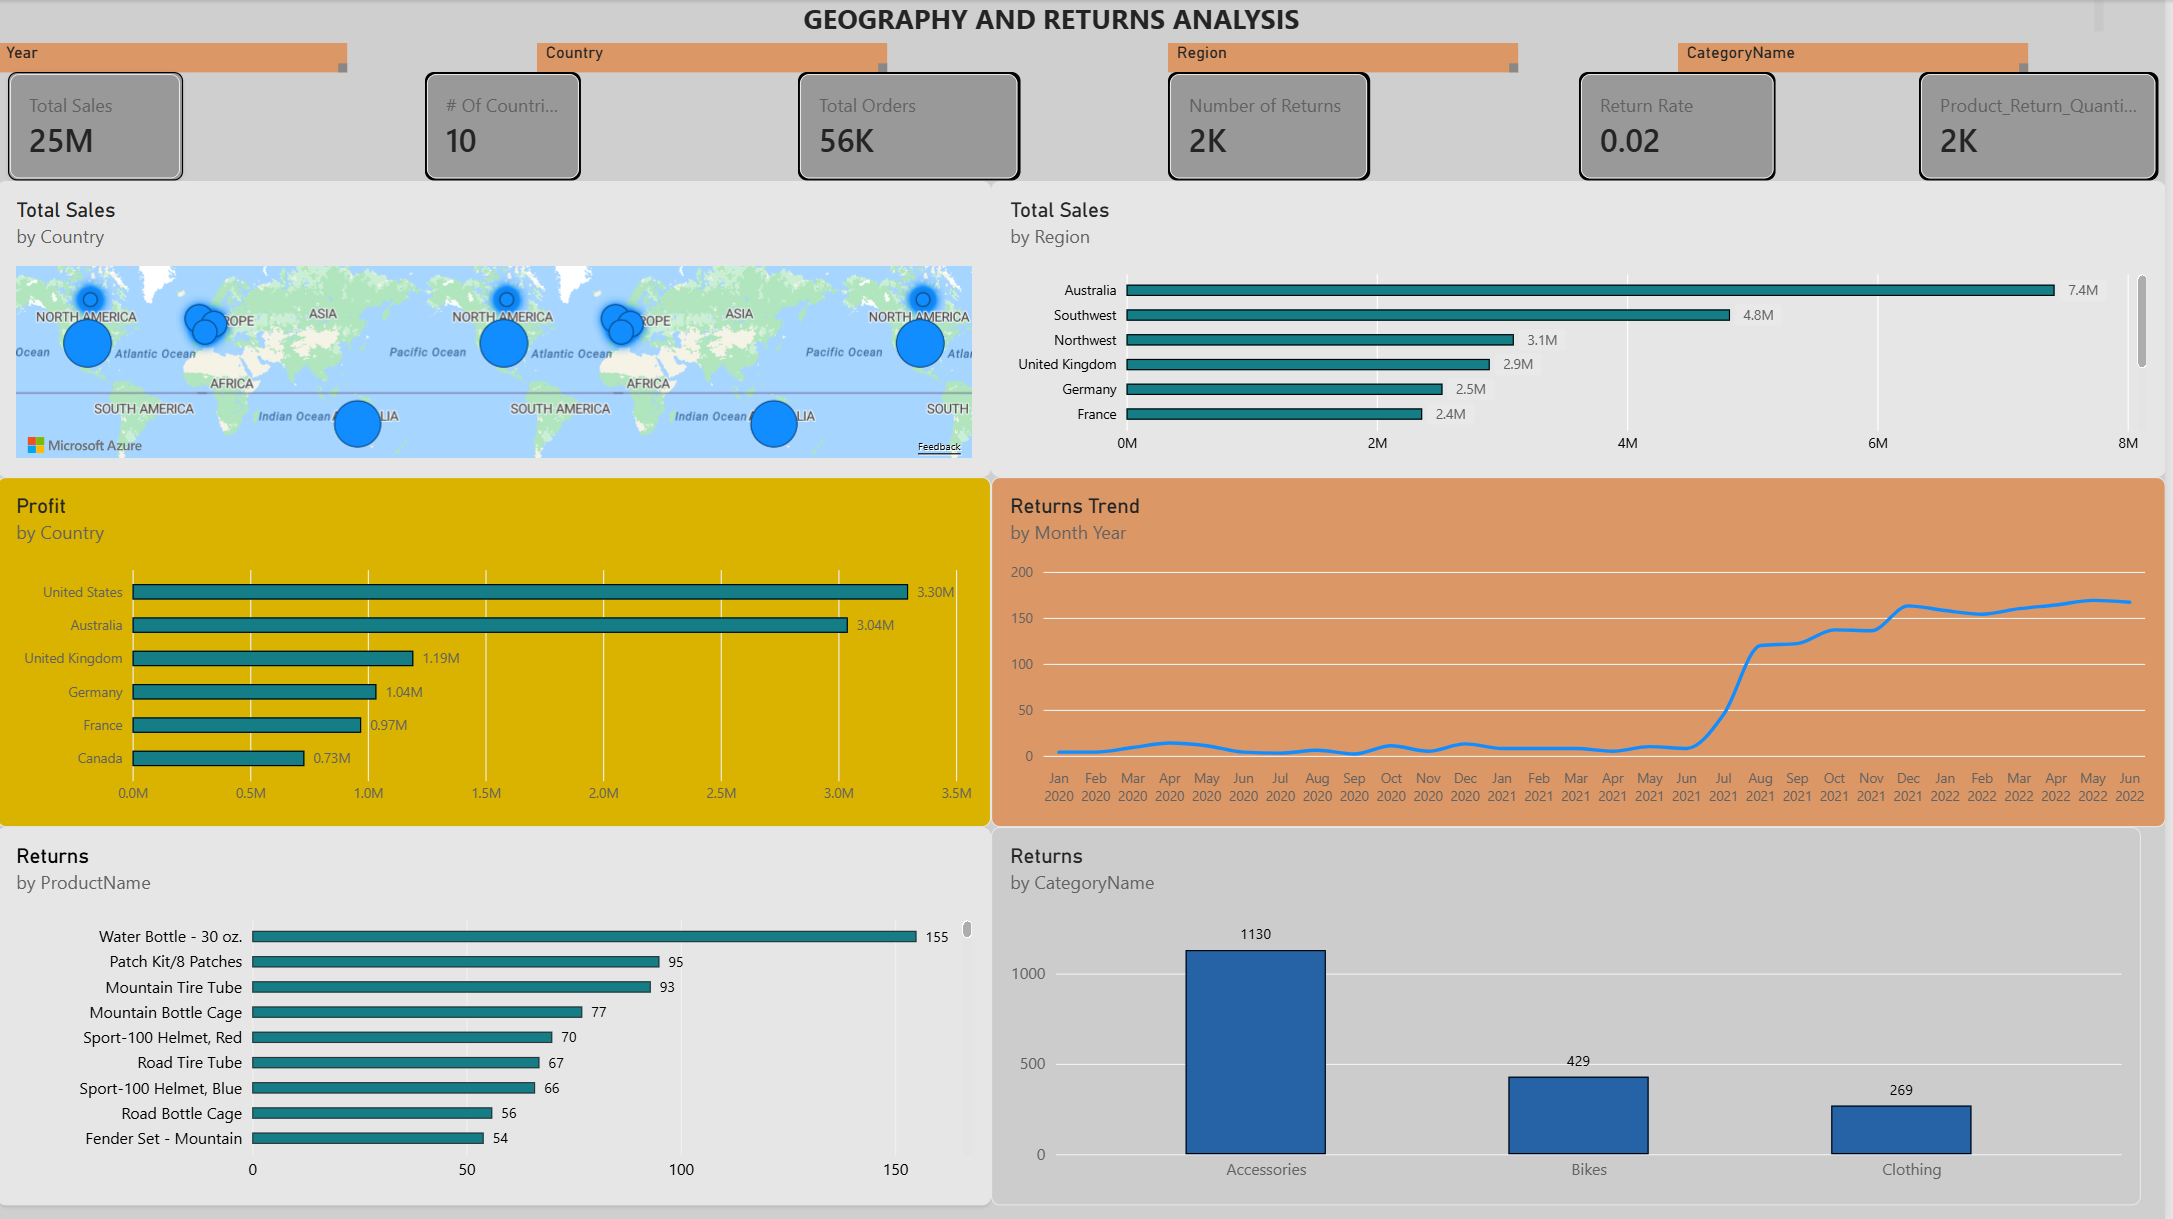

Layout of this report page (visuals, bound fields, positions):
{"tool":"powerbi","page":{"name":"GEOGRAPHY AND RETURNS ANALYSIS","canvas":[1920,1080],"ordinal":2},"visuals":[{"type":"textbox","box":[9.7,0,1855.5,30.1],"z":0},{"type":"slicer","fields":{"Values":["AdventureWorks Calendar Lookup.Date.Variation.Date Hierarchy.Year"]},"box":[0,38.1,309.8,25.7],"z":1000},{"type":"slicer","fields":{"Values":["AdventureWorks Territory Lookup.Country"]},"box":[478,38.1,309.8,25.7],"z":2000},{"type":"slicer","fields":{"Values":["AdventureWorks Territory Lookup.Region"]},"box":[1036.6,38.1,309.8,25.7],"z":3000},{"type":"slicer","fields":{"Values":["AdventureWorks Product Categori.CategoryName"]},"box":[1488.1,38.1,309.8,25.7],"z":4000},{"type":"cardVisual","fields":{"Data":["Sales_All_Years.Total Sales"]},"box":[9.7,63.7,154.9,96.5],"z":5000},{"type":"cardVisual","fields":{"Data":["AdventureWorks Territory Lookup.# Of Countries"]},"box":[378.9,63.7,138.1,96.5],"z":6000},{"type":"cardVisual","fields":{"Data":["Sum(AdventureWorks Returns Data.ReturnQuantity)"]},"box":[1036.6,63.7,178.8,96.5],"z":7000},{"type":"cardVisual","fields":{"Data":["AdventureWorks Returns Data.Return Rate"]},"box":[1400.5,63.7,174.4,96.5],"z":8000},{"type":"cardVisual","fields":{"Data":["AdventureWorks Returns Data.Product_Return_Quantity"]},"box":[1701.4,63.7,211.6,96.5],"z":9000},{"type":"azureMap","fields":{"Category":["AdventureWorks Territory Lookup.Country"],"Size":["Sales_All_Years.Total Sales"]},"box":[0,160.2,879.9,262],"z":10000},{"type":"clusteredBarChart","fields":{"Category":["AdventureWorks Territory Lookup.Region"],"Y":["Sales_All_Years.Total Sales"]},"box":[879.9,160.2,1040.2,262],"z":11000},{"type":"clusteredBarChart","fields":{"Category":["AdventureWorks Territory Lookup.Country"],"Y":["Sales_All_Years.Profit"]},"box":[0,422.3,879.9,309.8],"z":12000},{"type":"lineChart","fields":{"Category":["AdventureWorks Returns Data.Month Year"],"Y":["Sum(AdventureWorks Returns Data.ReturnQuantity)"]},"box":[879.9,422.3,1040.2,309.8],"z":13000},{"type":"clusteredBarChart","fields":{"Category":["AdventureWorks Product Lookup.ProductName"],"Y":["Sum(AdventureWorks Returns Data.ReturnQuantity)"]},"box":[0,732.1,879.9,334.6],"z":14000},{"type":"clusteredColumnChart","fields":{"Category":["AdventureWorks Product Categori.CategoryName"],"Y":["Sum(AdventureWorks Returns Data.ReturnQuantity)"]},"box":[879.9,732.1,1018,334.6],"z":15000},{"type":"cardVisual","fields":{"Data":["Sales_All_Years.Total Orders"]},"box":[709.1,63.7,196.5,96.5],"z":16001}]}

Visuals, with their boxes in screenshot pixels (x1, y1, x2, y2), scaled from the page's 1920x1080 canvas onto the 2173x1219 screenshot:
textbox: [left=11, top=0, right=2111, bottom=34]
slicer - AdventureWorks Calendar Lookup.Date.Variation.Date Hierarchy.Year: [left=0, top=43, right=351, bottom=72]
slicer - AdventureWorks Territory Lookup.Country: [left=541, top=43, right=892, bottom=72]
slicer - AdventureWorks Territory Lookup.Region: [left=1173, top=43, right=1524, bottom=72]
slicer - AdventureWorks Product Categori.CategoryName: [left=1684, top=43, right=2035, bottom=72]
cardVisual - Sales_All_Years.Total Sales: [left=11, top=72, right=186, bottom=181]
cardVisual - AdventureWorks Territory Lookup.# Of Countries: [left=429, top=72, right=585, bottom=181]
cardVisual - Sum(AdventureWorks Returns Data.ReturnQuantity): [left=1173, top=72, right=1376, bottom=181]
cardVisual - AdventureWorks Returns Data.Return Rate: [left=1585, top=72, right=1782, bottom=181]
cardVisual - AdventureWorks Returns Data.Product_Return_Quantity: [left=1926, top=72, right=2165, bottom=181]
azureMap - AdventureWorks Territory Lookup.Country x Sales_All_Years.Total Sales: [left=0, top=181, right=996, bottom=477]
clusteredBarChart - AdventureWorks Territory Lookup.Region x Sales_All_Years.Total Sales: [left=996, top=181, right=2172, bottom=477]
clusteredBarChart - AdventureWorks Territory Lookup.Country x Sales_All_Years.Profit: [left=0, top=477, right=996, bottom=826]
lineChart - AdventureWorks Returns Data.Month Year x Sum(AdventureWorks Returns Data.ReturnQuantity): [left=996, top=477, right=2172, bottom=826]
clusteredBarChart - AdventureWorks Product Lookup.ProductName x Sum(AdventureWorks Returns Data.ReturnQuantity): [left=0, top=826, right=996, bottom=1204]
clusteredColumnChart - AdventureWorks Product Categori.CategoryName x Sum(AdventureWorks Returns Data.ReturnQuantity): [left=996, top=826, right=2148, bottom=1204]
cardVisual - Sales_All_Years.Total Orders: [left=803, top=72, right=1025, bottom=181]
